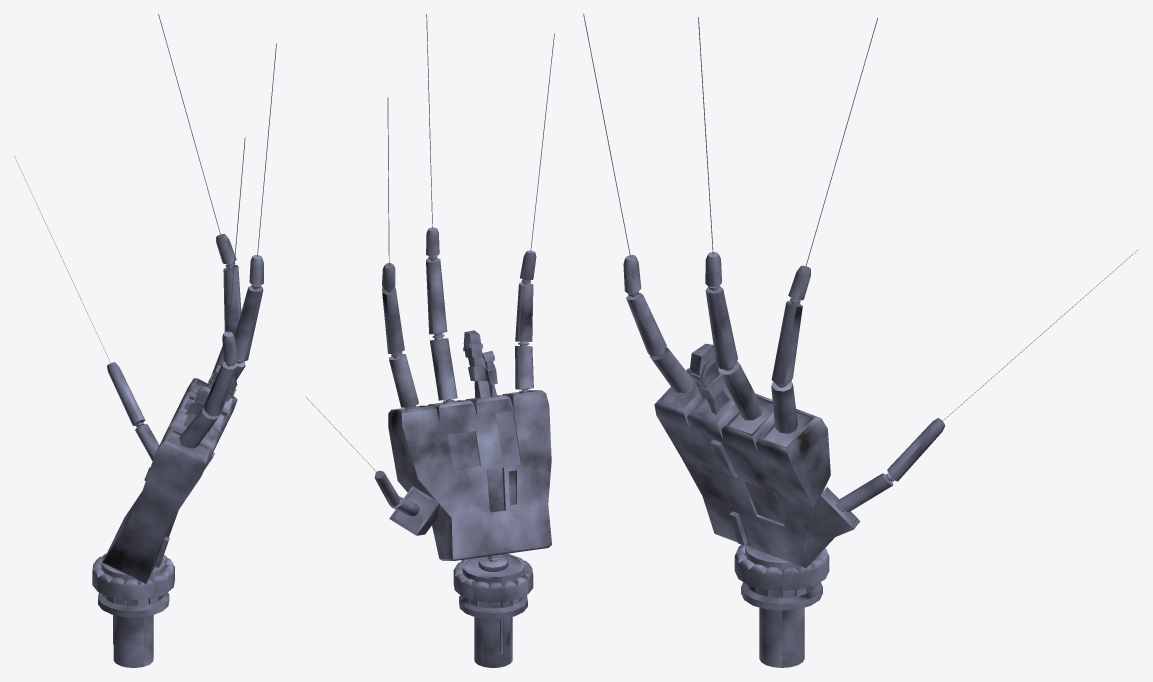
Rendered from mechanical_hand_v2.glb.
3 renders of one model, left to right at view 1: azimuth 30°, elevation 25°; view 2: azimuth 150°, elevation 25°; view 3: azimuth 270°, elevation 25°, orthographic. The views are drawn at different scales.
Parts seen in each view (by area): view 1: Cube.004; view 2: Cube.004; view 3: Cube.004.
Part boxes in pixels (box(x1,y1,x2,y2)): Cube.004: box(14, 14, 276, 667); Cube.004: box(305, 14, 554, 667); Cube.004: box(583, 14, 1138, 667).
Size of the model in its own units: 2.39 by 9.06 by 6.52.
Materials: 1 (1 with a texture image).
